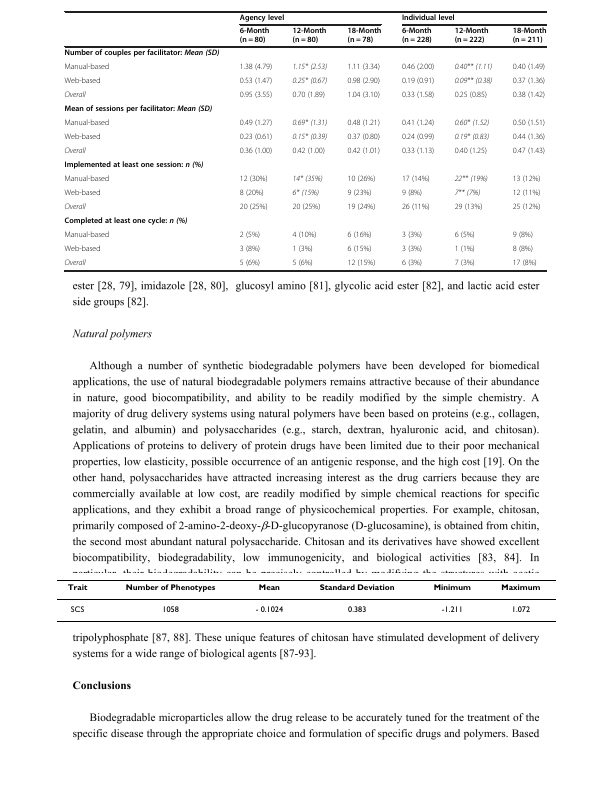borderless: (63, 10, 546, 270), (56, 578, 556, 621)
cell: (64, 49, 220, 59), (64, 105, 213, 115), (64, 161, 204, 171), (64, 217, 188, 227), (124, 583, 216, 592), (318, 583, 395, 592), (292, 27, 327, 46), (347, 27, 382, 46), (454, 27, 489, 46), (512, 27, 547, 46), (401, 27, 433, 46), (239, 27, 270, 46), (401, 14, 456, 23), (239, 14, 285, 23), (64, 63, 110, 72), (64, 119, 110, 128), (64, 175, 110, 184), (64, 231, 110, 240), (500, 583, 541, 592), (454, 63, 493, 72), (454, 77, 493, 86), (432, 583, 471, 592), (64, 77, 101, 86), (64, 133, 101, 142), (64, 189, 101, 198), (64, 245, 101, 254), (292, 63, 328, 72), (292, 77, 328, 86), (292, 119, 328, 128), (454, 119, 490, 128), (292, 133, 328, 142), (454, 133, 490, 142), (454, 175, 489, 184), (239, 63, 273, 72), (347, 63, 381, 72), (401, 63, 435, 72), (512, 63, 546, 72), (239, 77, 273, 86), (347, 77, 381, 86), (401, 77, 435, 86), (512, 77, 546, 86), (239, 91, 273, 100), (292, 91, 326, 100), (347, 91, 381, 100), (401, 91, 435, 100), (454, 91, 488, 100), (512, 91, 546, 100), (239, 119, 273, 128), (347, 119, 381, 128), (401, 119, 435, 128), (512, 119, 546, 128), (239, 133, 273, 142), (347, 133, 381, 142), (401, 133, 435, 142), (512, 133, 546, 142), (239, 147, 273, 156), (292, 147, 326, 156), (347, 147, 381, 156), (401, 147, 435, 156), (454, 147, 488, 156), (512, 147, 546, 156), (292, 175, 323, 184), (401, 175, 431, 184), (401, 203, 431, 212), (239, 175, 268, 184), (347, 175, 376, 184), (512, 175, 541, 184), (512, 189, 541, 198), (239, 203, 268, 212), (292, 203, 321, 212), (347, 203, 376, 212), (454, 203, 483, 212), (512, 203, 541, 212), (347, 259, 376, 268), (292, 189, 320, 198), (454, 189, 481, 198), (254, 605, 284, 613), (239, 189, 265, 198), (512, 259, 538, 268), (347, 189, 372, 198), (292, 231, 317, 240), (347, 231, 372, 240), (347, 245, 372, 254), (64, 91, 87, 100), (64, 147, 87, 156), (64, 203, 87, 212), (64, 259, 87, 268), (257, 583, 280, 592), (401, 189, 423, 198), (239, 231, 261, 240), (401, 231, 423, 240), (454, 231, 476, 240), (512, 231, 534, 240), (239, 245, 261, 254), (292, 245, 314, 254), (401, 245, 423, 254), (454, 245, 476, 254), (512, 245, 534, 254), (239, 259, 261, 268), (292, 259, 314, 268), (401, 259, 423, 268), (454, 259, 476, 268), (66, 583, 88, 592), (440, 605, 463, 613), (510, 605, 531, 613), (347, 605, 367, 613), (161, 605, 179, 613), (69, 605, 85, 613)
